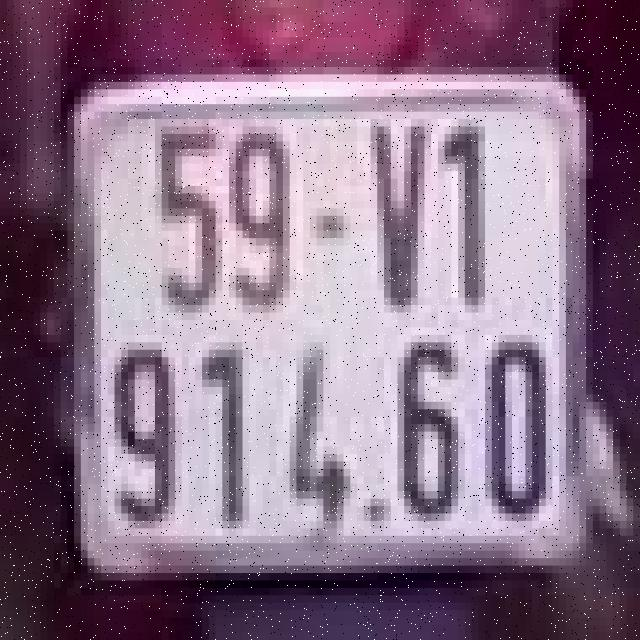0: (478, 327, 552, 536)
1: (192, 335, 259, 543), (441, 119, 495, 320)
4: (273, 327, 354, 536)
5: (148, 104, 222, 328)
6: (384, 320, 472, 543)
9: (101, 335, 189, 536), (222, 123, 303, 316)
V: (350, 104, 438, 328)
